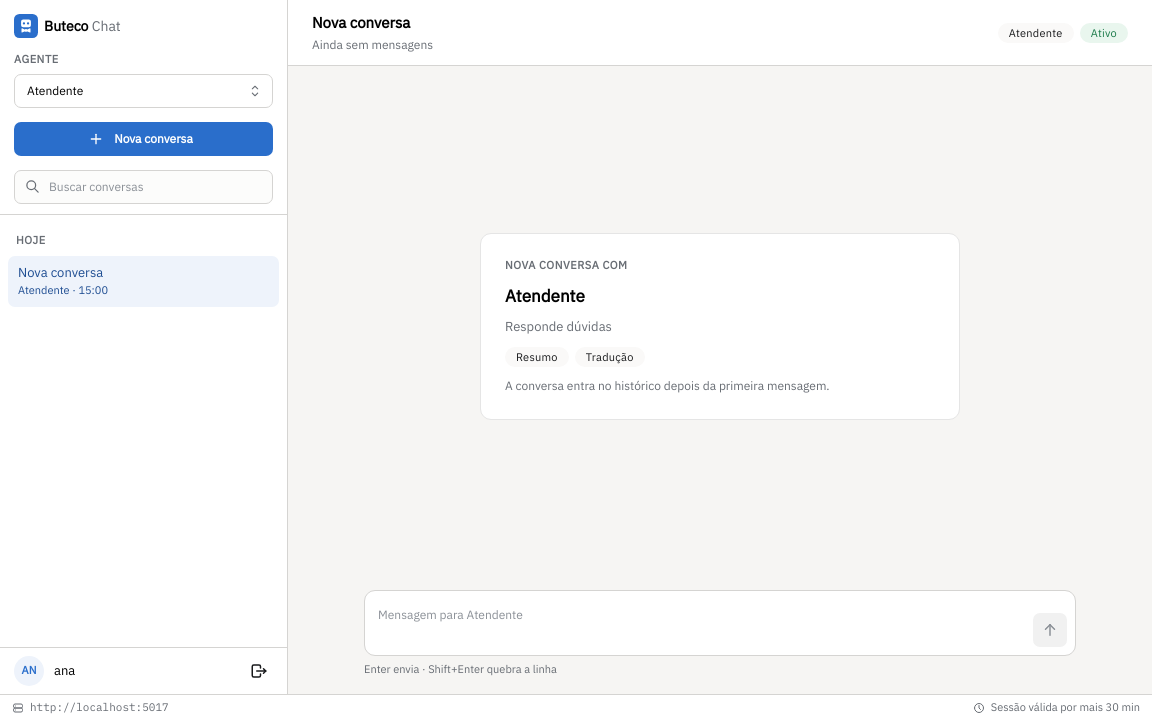
Test case: várias conversas › resposta não retomada → prazo esgotado → Continuar aguardando: mede pelo relógio local
Type "oi" into the text box labelled "Mensagem" at (699, 623), box [373,599,1025,647]
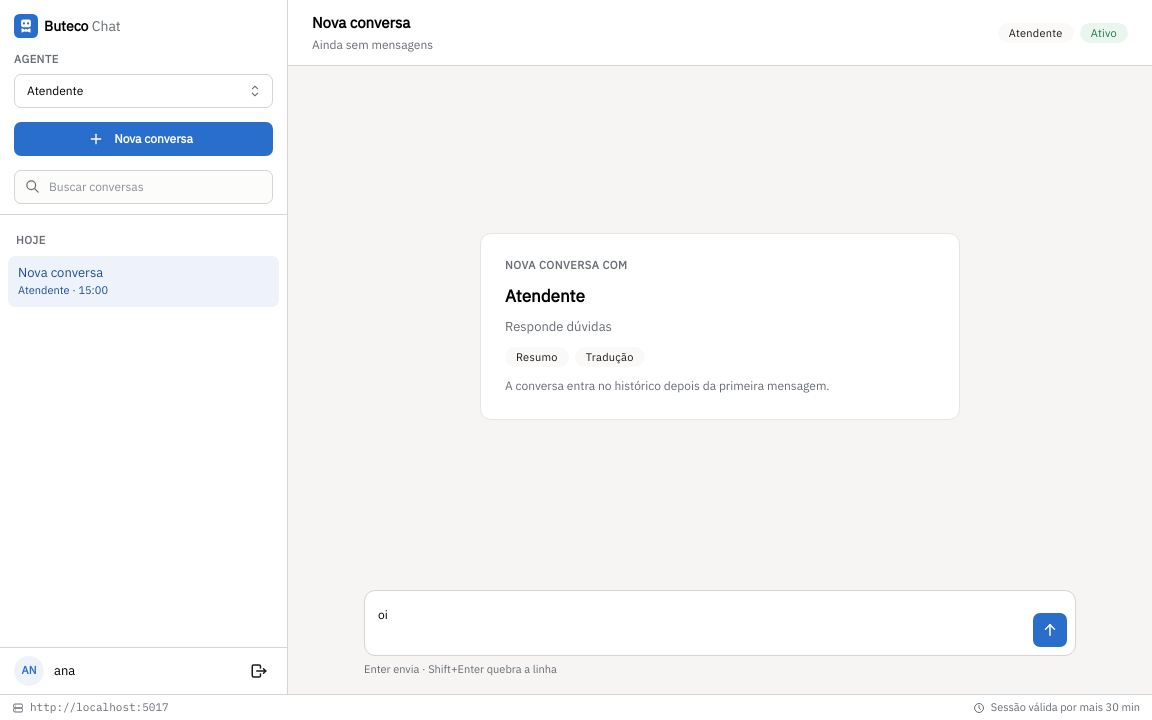
Press Enter in the text box named "Mensagem", box [373,599,1025,647]
Wait 91000 ms
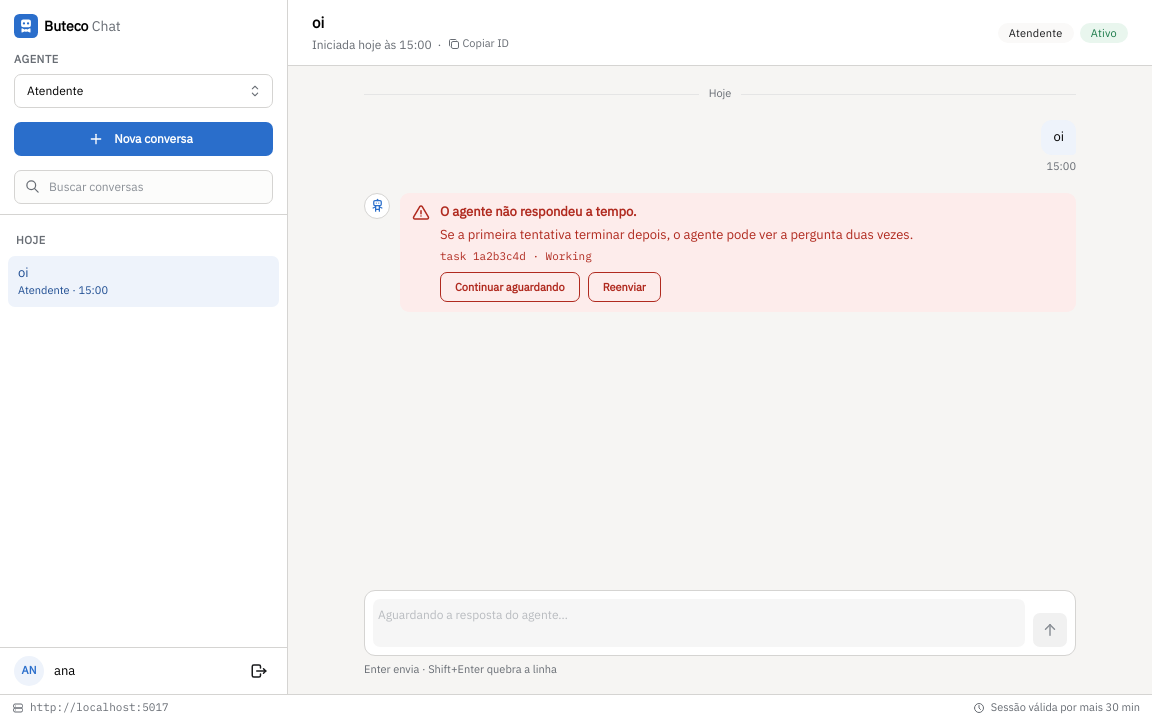
Click the button "Continuar aguardando" at (510, 288), box [440,272,580,302]
Wait 1000 ms
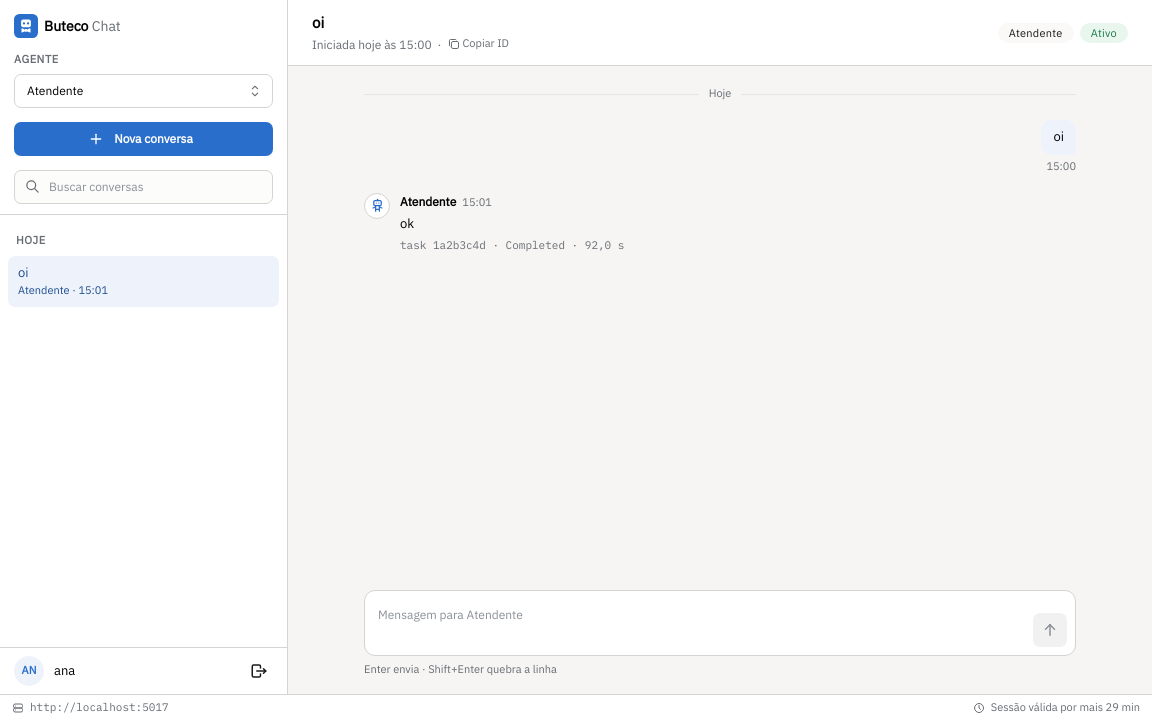
Now the text "task 1a2b3c4d · Completed · 92,0 s" is shown, box [400,238,624,252]
